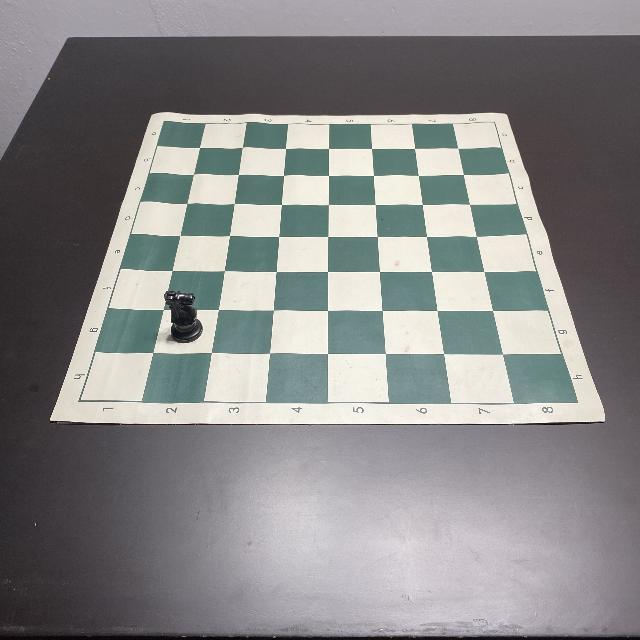black-knight: (163, 289, 203, 343)
board: (49, 110, 606, 424)
